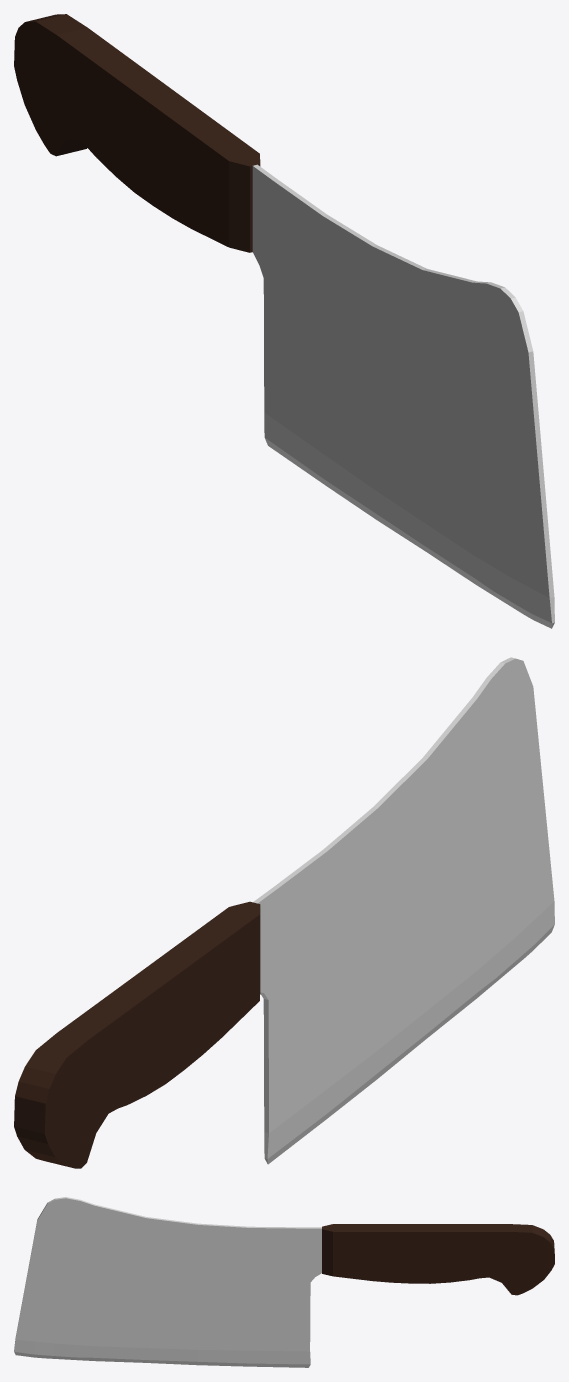
Rendered from Cutelo_A01.fbx.
The picture shows the model from 3 angles, top to bottom: view 1: azimuth 30°, elevation 25°; view 2: azimuth 150°, elevation 25°; view 3: azimuth 270°, elevation 25°; orthographic projection. The views are drawn at different scales.
Parts seen in each view (by area): view 1: Cubo; view 2: Cubo; view 3: Cubo.
Part boxes in pixels (x1,y1,x2,y2): Cubo: [14, 14, 554, 628]; Cubo: [14, 657, 554, 1168]; Cubo: [14, 1197, 554, 1367].
Bounding box in the file's own units: 1.14 × 11.68 × 33.65.
